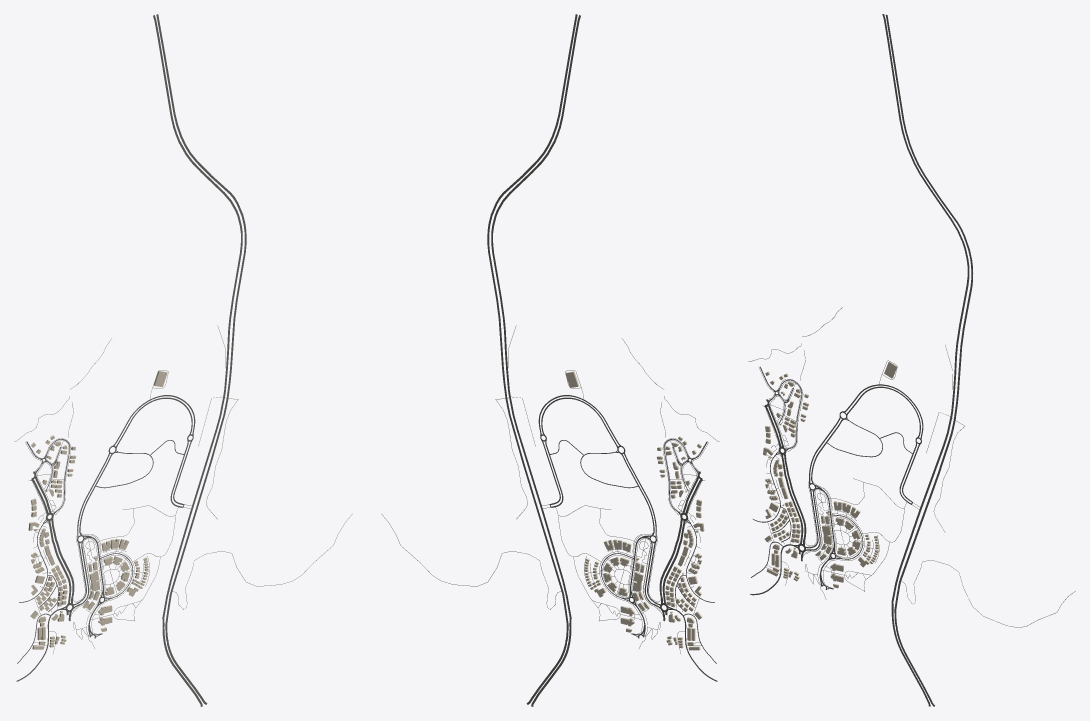
Rendered from historic-palestine-08_23_3500_3171.glb.
3 views of the same model, side by side, from view 1: azimuth 30°, elevation 25°; view 2: azimuth 150°, elevation 25°; view 3: azimuth 330°, elevation 25° (orthographic). The views are drawn at different scales.
Visible parts, largest first — view 1: Road עוקף בית שמש, Road עוקף בית שמש.001; view 2: Road עוקף בית שמש, Road עוקף בית שמש.001; view 3: Road עוקף בית שמש.001, Road עוקף בית שמש.
Part boxes in pixels (x1=…): Road עוקף בית שמש: x1=156, y1=14, x2=246, y2=704; Road עוקף בית שמש.001: x1=153, y1=15, x2=242, y2=706; Road עוקף בית שמש: x1=487, y1=14, x2=577, y2=704; Road עוקף בית שמש.001: x1=491, y1=15, x2=580, y2=706; Road עוקף בית שמש.001: x1=882, y1=14, x2=969, y2=706; Road עוקף בית שמש: x1=885, y1=14, x2=973, y2=706.
Bounding box in the file's own units: 1410 × 2799 × 8.7.
